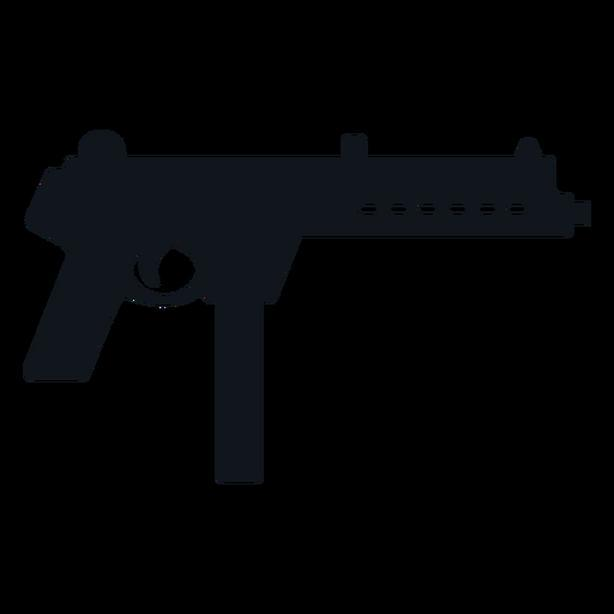Firearm: (3, 116, 614, 507)
